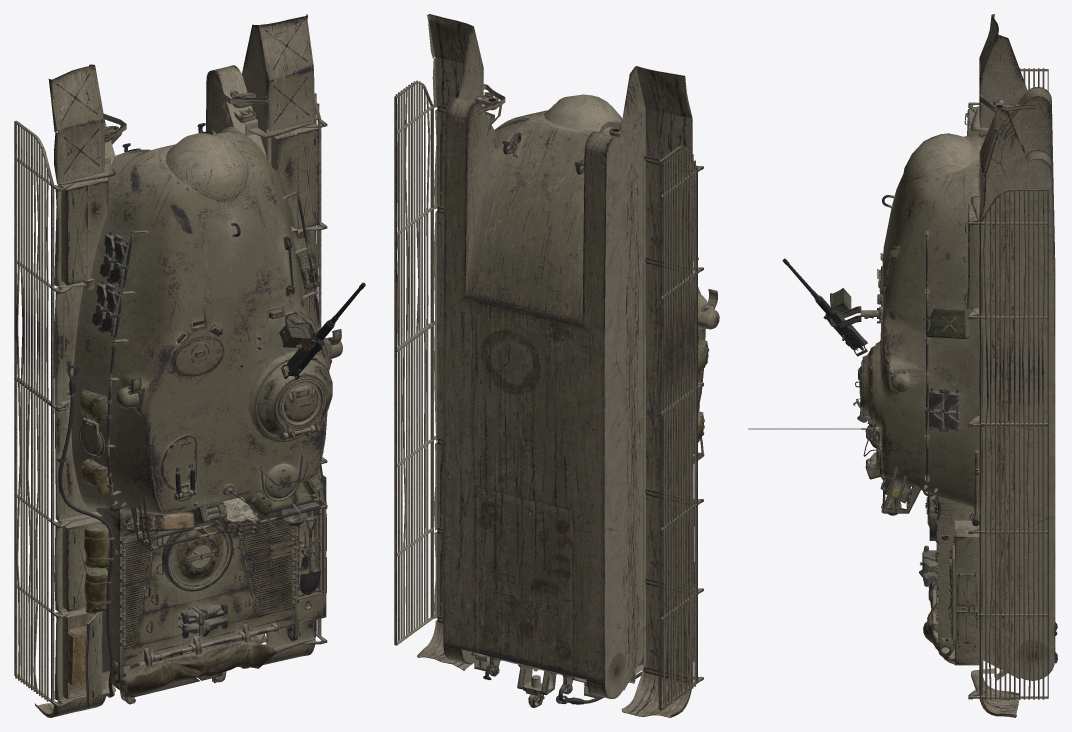
Rendered from Hull.glb.
The picture shows the model from 3 angles, left to right: view 1: azimuth 30°, elevation 25°; view 2: azimuth 150°, elevation 25°; view 3: azimuth 270°, elevation 25°; orthographic projection. The views are drawn at different scales.
Visible parts, largest first — view 1: set_0_group_0, set_0_group_1; view 2: set_0_group_0, set_0_group_1; view 3: set_0_group_0, set_0_group_1.
Boxes of the visible parts, bbox=[...] form: set_0_group_0: bbox=[35, 14, 342, 717]; set_0_group_1: bbox=[14, 89, 365, 707]; set_0_group_0: bbox=[417, 14, 719, 717]; set_0_group_1: bbox=[394, 80, 709, 709]; set_0_group_0: bbox=[748, 14, 1055, 717]; set_0_group_1: bbox=[782, 68, 1057, 699].
Size of the model in its own units: 3.39 by 7.6 by 3.56.
2 materials, 2 textured.
